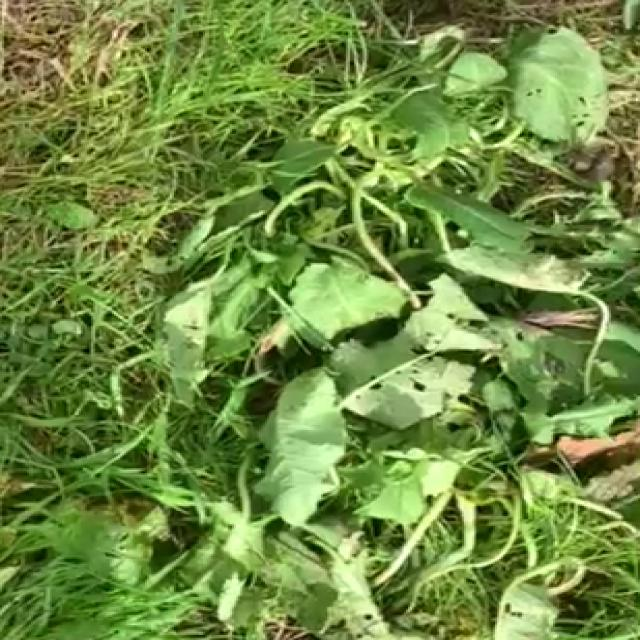organic waste: (143, 44, 640, 437), (149, 284, 640, 600)
